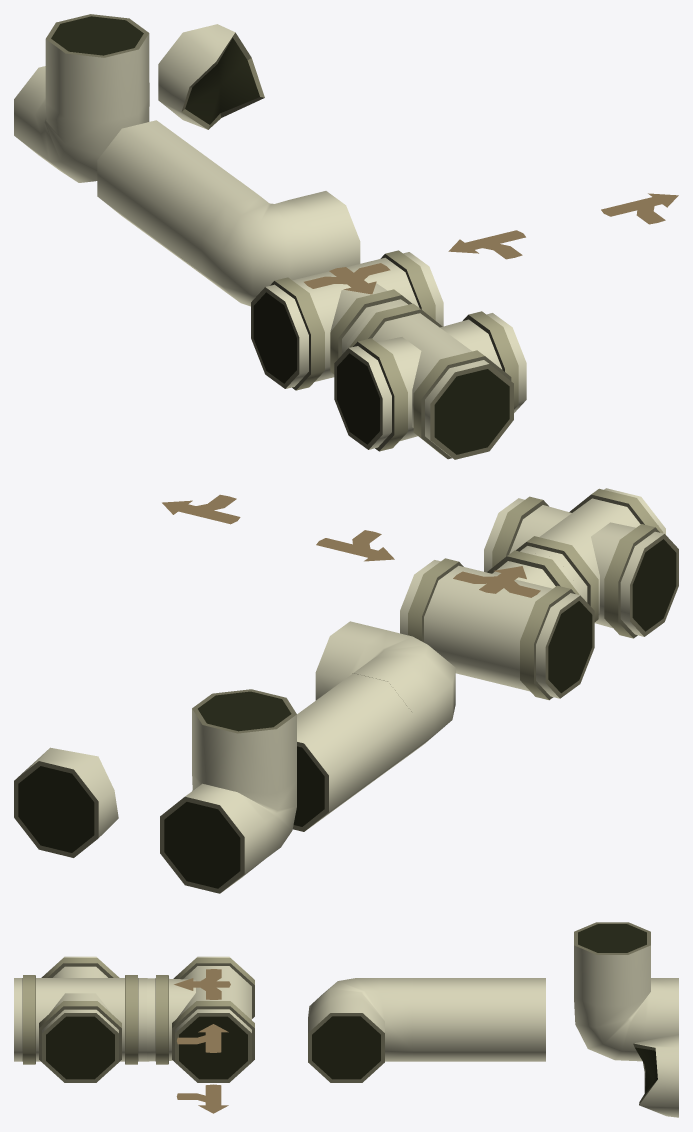
File: DisposalPipes.fbx
The picture shows the model from 3 angles, top to bottom: view 1: azimuth 30°, elevation 25°; view 2: azimuth 150°, elevation 25°; view 3: azimuth 270°, elevation 25°; orthographic projection. The views are drawn at different scales.
Visible parts, largest first — view 1: DisposalPipeX, DisposalPipeVertical, DisposalPipeL, DisposalPipeT, DisposalPipeI, DisposalPipeBroken, DisposalPipeTArrowSouth, DisposalPipeTArrowWest, DisposalPipeTArrowEast; view 2: DisposalPipeVertical, DisposalPipeT, DisposalPipeX, DisposalPipeI, DisposalPipeL, DisposalPipeBroken, DisposalPipeTArrowSouth, DisposalPipeTArrowWest, DisposalPipeTArrowEast; view 3: DisposalPipeX, DisposalPipeVertical, DisposalPipeI, DisposalPipeT, DisposalPipeL, DisposalPipeBroken, DisposalPipeTArrowSouth, DisposalPipeTArrowWest, DisposalPipeTArrowEast.
Part boxes in pixels (x1,y1,x2,y2): DisposalPipeX: [334, 303, 526, 459]; DisposalPipeVertical: [14, 14, 149, 182]; DisposalPipeL: [180, 181, 360, 306]; DisposalPipeT: [251, 250, 443, 390]; DisposalPipeI: [97, 120, 238, 274]; DisposalPipeBroken: [158, 24, 264, 129]; DisposalPipeTArrowSouth: [304, 263, 390, 294]; DisposalPipeTArrowWest: [448, 230, 525, 259]; DisposalPipeTArrowEast: [601, 193, 678, 224]; DisposalPipeVertical: [160, 689, 296, 893]; DisposalPipeT: [400, 550, 594, 700]; DisposalPipeX: [484, 488, 678, 638]; DisposalPipeI: [293, 673, 413, 831]; DisposalPipeL: [315, 621, 455, 768]; DisposalPipeBroken: [14, 747, 118, 857]; DisposalPipeTArrowSouth: [453, 566, 540, 597]; DisposalPipeTArrowWest: [316, 530, 394, 561]; DisposalPipeTArrowEast: [162, 494, 240, 524]; DisposalPipeX: [14, 956, 146, 1082]; DisposalPipeVertical: [574, 922, 678, 1061]; DisposalPipeI: [413, 978, 545, 1061]; DisposalPipeT: [147, 956, 254, 1082]; DisposalPipeL: [308, 978, 412, 1082]; DisposalPipeBroken: [633, 1034, 678, 1117]; DisposalPipeTArrowSouth: [174, 969, 230, 999]; DisposalPipeTArrowWest: [177, 1024, 228, 1052]; DisposalPipeTArrowEast: [176, 1084, 228, 1113].
Size of the model in its own units: 2.8 by 0.9865 by 5.
